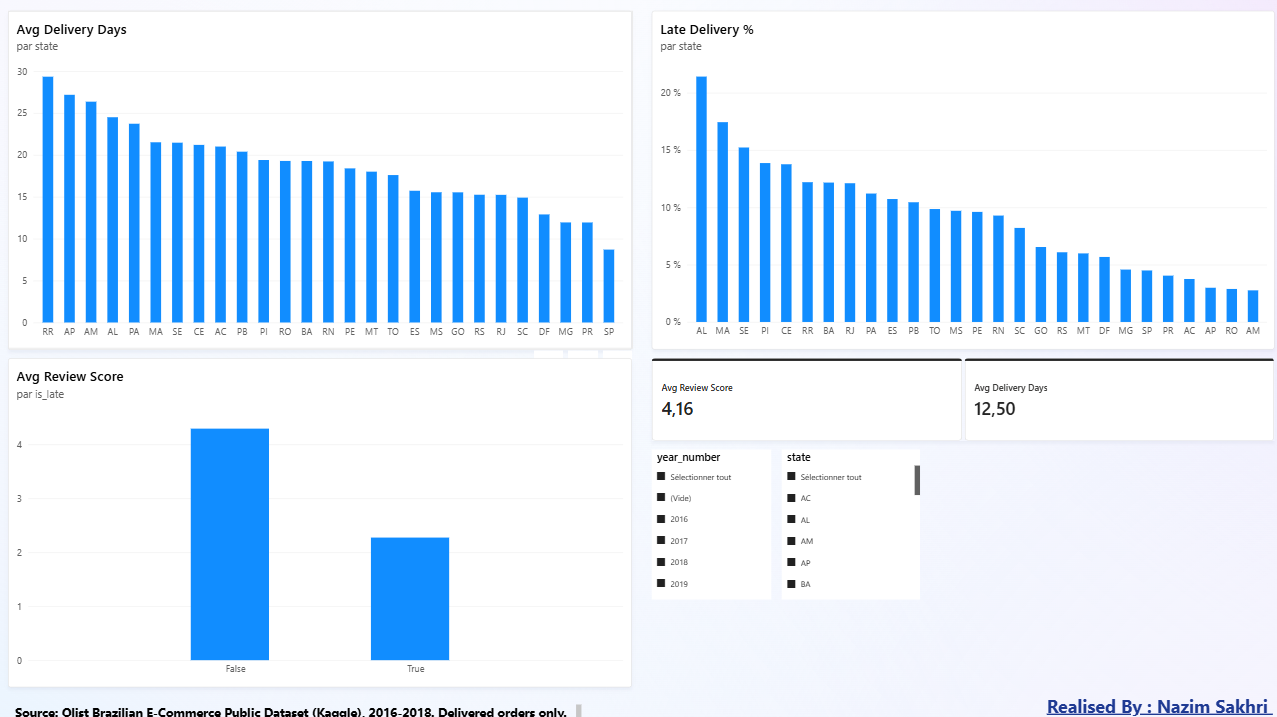

What the dashboard file says about the page in this screenshot:
{"tool":"powerbi","page":{"name":"Page 2","canvas":[1920,1080],"ordinal":1},"visuals":[{"type":"clusteredColumnChart","fields":{"Category":["dw dim_customer.state"],"Y":["dw fact_orders.Avg Delivery Days"]},"box":[15.9,19.8,931.3,506.1],"z":0},{"type":"clusteredColumnChart","fields":{"Category":["dw dim_customer.state"],"Y":["dw fact_orders.Late Delivery %"]},"box":[975.1,19.8,931.5,505.4],"z":1000},{"type":"clusteredColumnChart","fields":{"Category":["dw fact_orders.is_late"],"Y":["dw fact_orders.Avg Review Score"]},"box":[15.9,539.1,931.5,491.5],"z":2000},{"type":"cardVisual","fields":{"Data":["dw fact_orders.Avg Review Score","dw fact_orders.Avg Delivery Days"]},"box":[975.1,539.1,931.3,123.3],"z":3000},{"type":"slicer","fields":{"Values":["dw dim_date.year_number"]},"box":[975.1,675.8,178.4,223.9],"z":4000},{"type":"slicer","fields":{"Values":["dw dim_customer.state"]},"box":[1169.3,675.8,206.1,223.9],"z":5000},{"type":"textbox","box":[1565.7,1038.5,340.9,37.7],"z":6000},{"type":"textbox","box":[15.9,1056.3,856.2,23.8],"z":7000}]}

Visuals, with their boxes in screenshot pixels (x1, y1, x2, y2), scaled from the page's 1920x1080 canvas onto the 1277x717 screenshot:
clusteredColumnChart - dw dim_customer.state x dw fact_orders.Avg Delivery Days: [11, 13, 630, 349]
clusteredColumnChart - dw dim_customer.state x dw fact_orders.Late Delivery %: [649, 13, 1268, 349]
clusteredColumnChart - dw fact_orders.is_late x dw fact_orders.Avg Review Score: [11, 358, 630, 684]
cardVisual - dw fact_orders.Avg Review Score x dw fact_orders.Avg Delivery Days: [649, 358, 1268, 440]
slicer - dw dim_date.year_number: [649, 449, 767, 597]
slicer - dw dim_customer.state: [778, 449, 915, 597]
textbox: [1041, 689, 1268, 714]
textbox: [11, 701, 580, 716]
